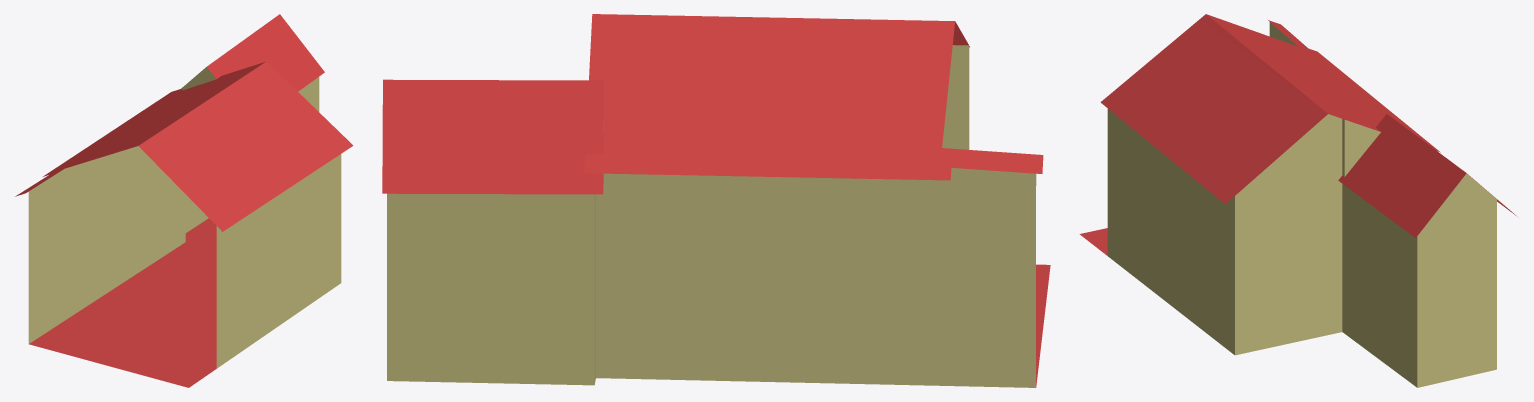
The picture shows the model from 3 angles, left to right: view 1: azimuth 30°, elevation 25°; view 2: azimuth 150°, elevation 25°; view 3: azimuth 270°, elevation 25°; orthographic projection. The views are drawn at different scales.
Size of the model in its own units: 25.5 by 23.39 by 13.09.
